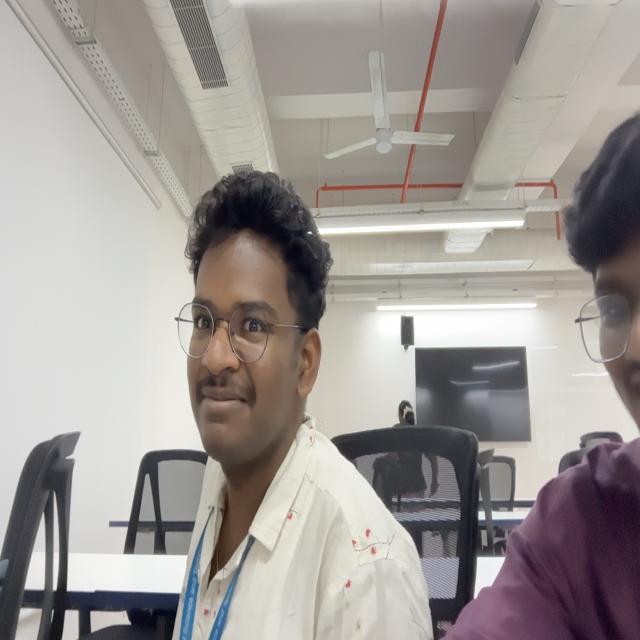sai: (179, 168, 323, 442)
